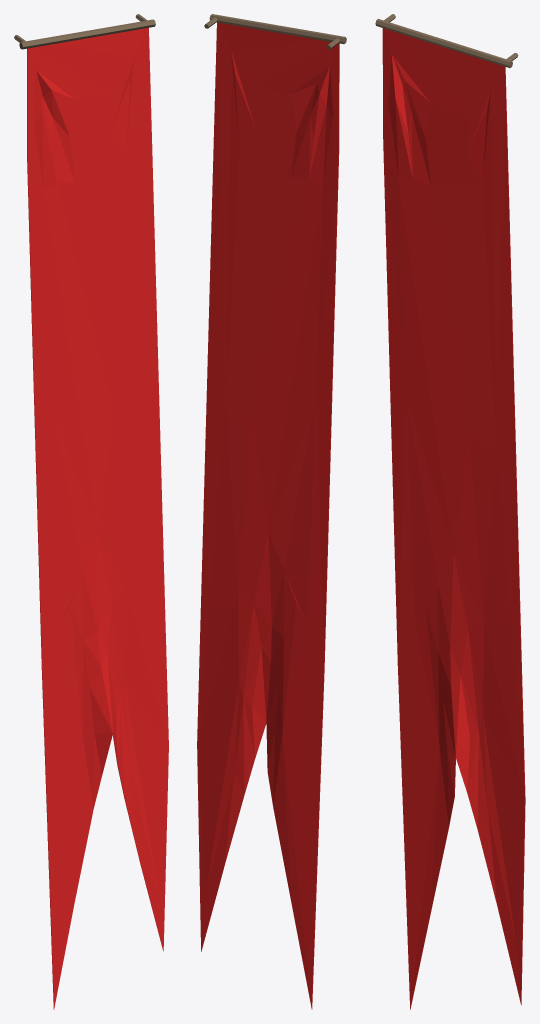
The model's file is castle_banner.FBX.
3 renders of one model, left to right at view 1: azimuth 30°, elevation 25°; view 2: azimuth 150°, elevation 25°; view 3: azimuth 330°, elevation 25°, orthographic.
Visible parts, largest first — view 1: castle_banner; view 2: castle_banner; view 3: castle_banner.
Part boxes in pixels (x1,y1,x2,y2): castle_banner: [14, 14, 168, 1009]; castle_banner: [197, 14, 346, 1009]; castle_banner: [375, 14, 525, 1009].
Bounding box in the file's own units: 3.28 × 20.74 × 0.676.
